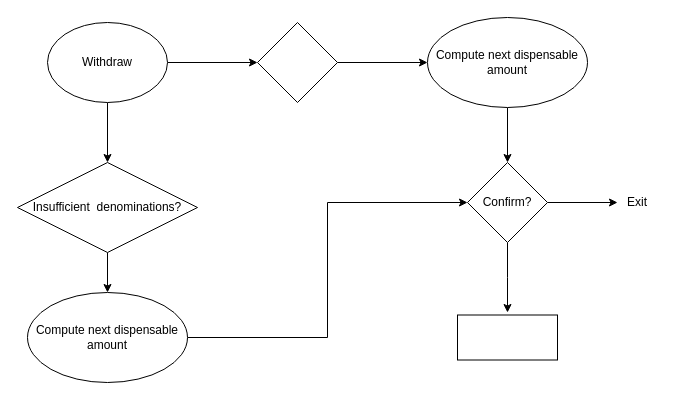
The diagram is 675 pixels wide and 400 high, and some of its shapes have lost their labels. Here are the shapes that lost their labels. From the top down, the centre of each, then its label:
the point at 297,62: Insufficient Funds?
the point at 507,337: Dispense the amount
